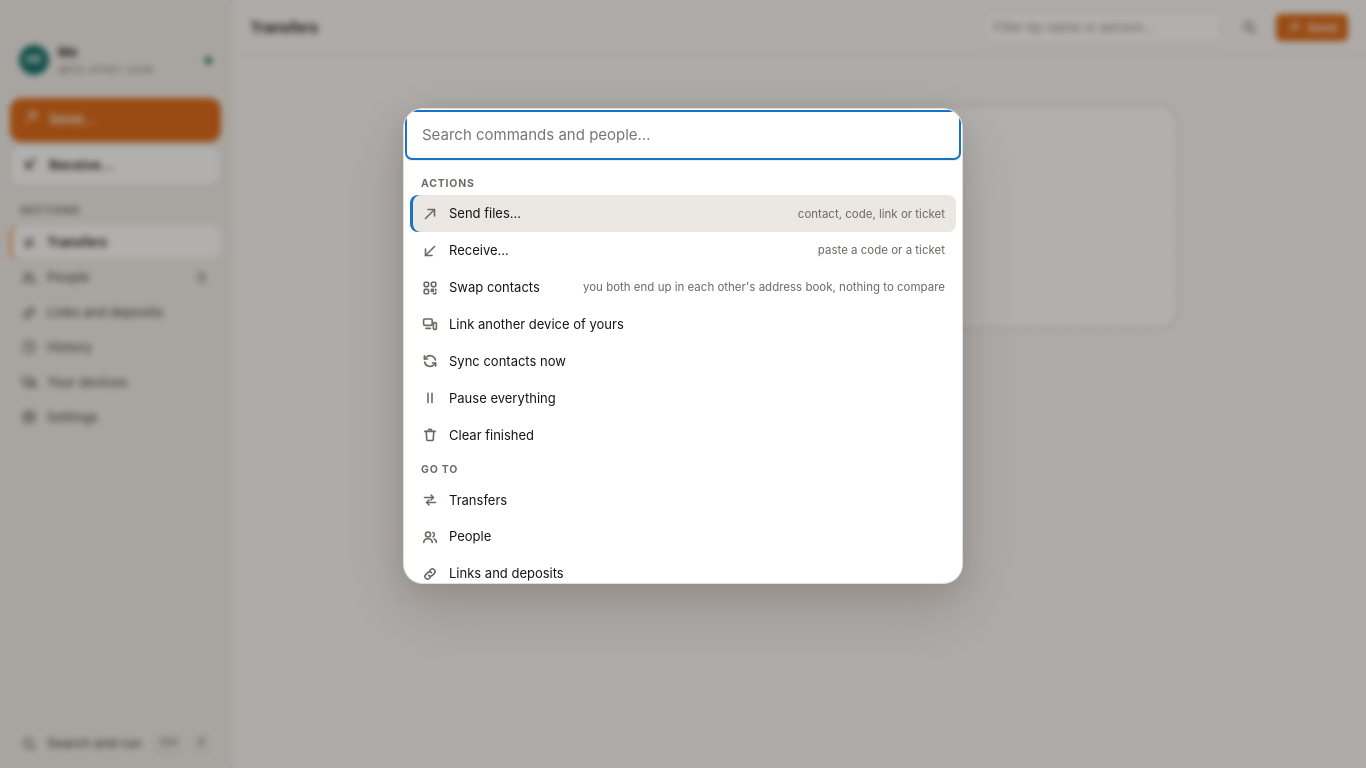
Test: every overlay mounts › the command palette, and it finds a person by name
The image size is (1366, 768).
Type "giulia" into the dropdown labelled "Search commands and people…" at (683, 135), box top-left (404, 108), bottom-right (962, 161)
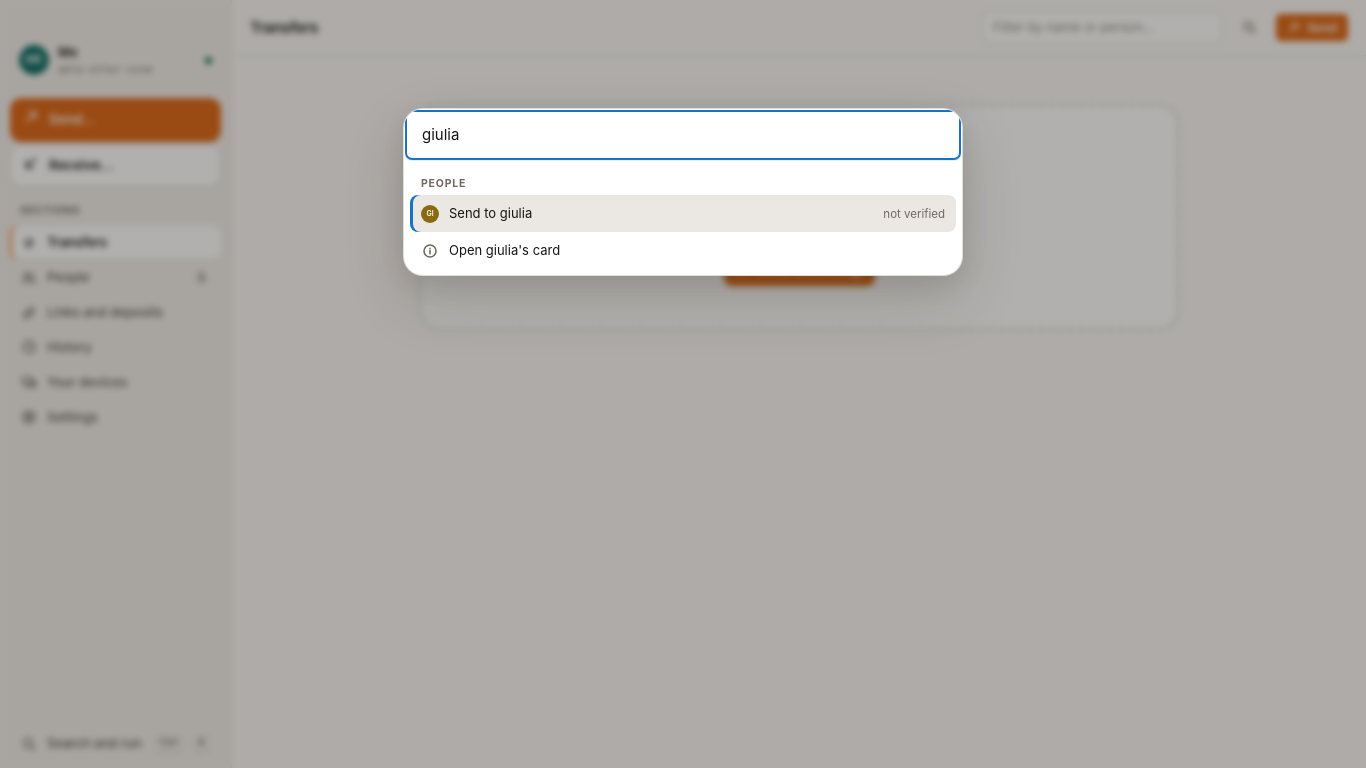
Check: the text "Send to giulia" is shown, box top-left (449, 204), bottom-right (532, 223)
